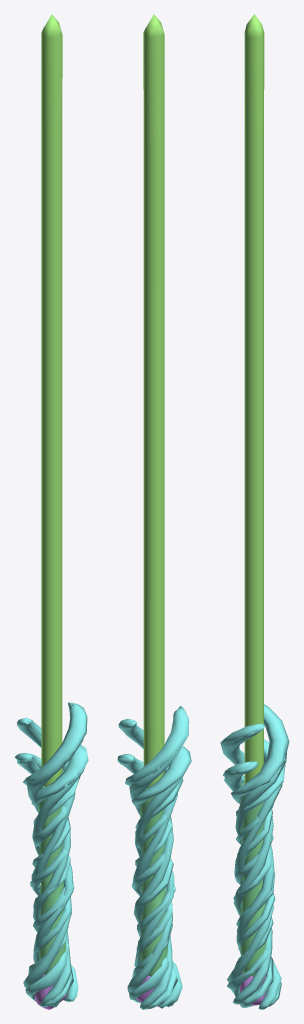
The picture shows the model from 3 angles, left to right: view 1: azimuth 30°, elevation 25°; view 2: azimuth 210°, elevation 25°; view 3: azimuth 270°, elevation 25°; orthographic projection.
Visible parts, largest first — view 1: Merged_Low; view 2: Merged_Low; view 3: Merged_Low.
Boxes of the visible parts, box(x1,y1,x2,y2) form: Merged_Low: box(14, 14, 88, 1009); Merged_Low: box(117, 14, 191, 1009); Merged_Low: box(220, 14, 289, 1009).
Size of the model in its own units: 16.32 by 249 by 15.7.
